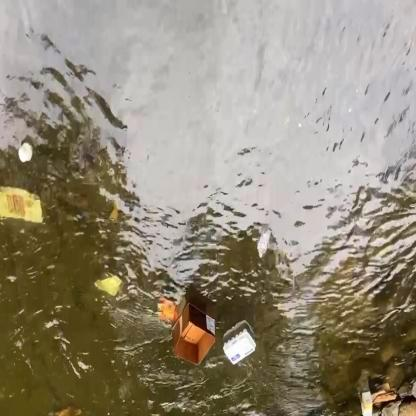Metal: (92, 267, 124, 300)
Plastic: (0, 180, 50, 232), (220, 323, 258, 368), (256, 226, 273, 262)
Trash: (366, 376, 400, 410), (16, 137, 34, 166)
